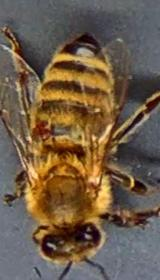varroa_mite: (27, 108, 68, 154)
